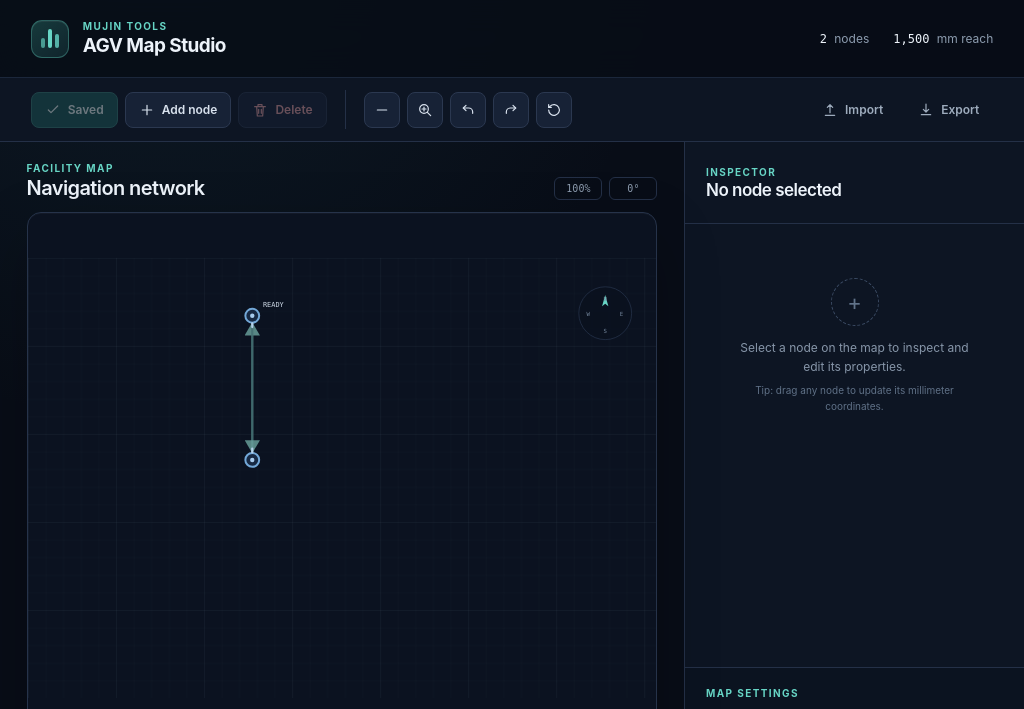
Test: App › can add and remove a node without leaving the draft dirty
The image size is (1024, 709).
expect the heading "Navigation network" is shown: met, box 27,176 -> 205,200
Click the button "Add node".
click(178, 110)  # box 125,92 -> 231,128
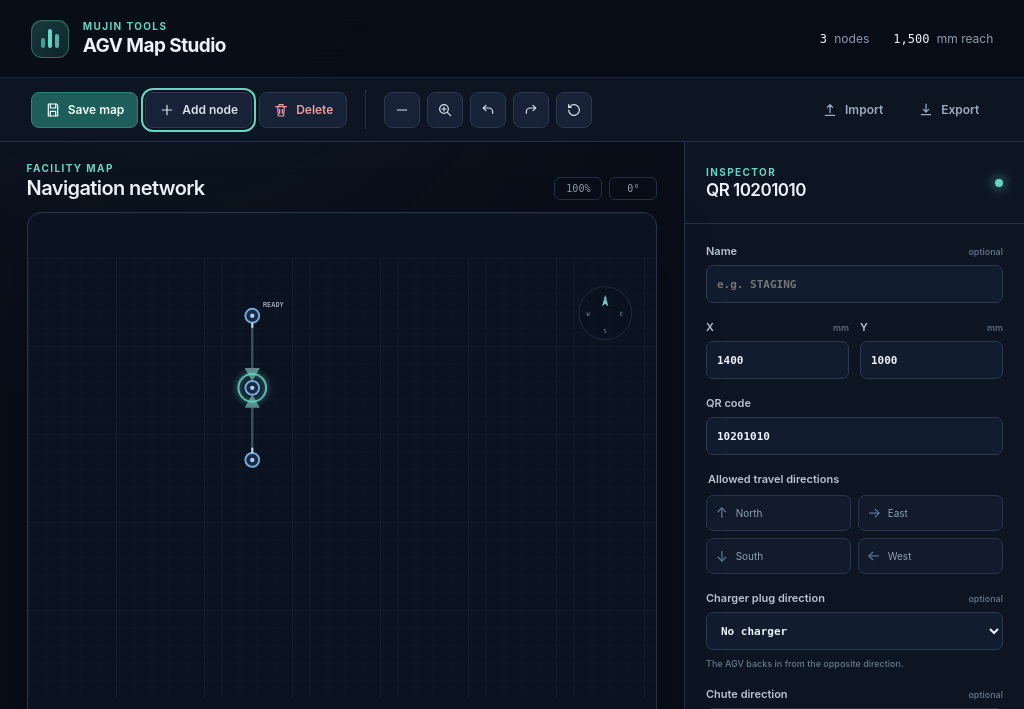
expect the element named "Map summary" shows "3 nodes": met, box 820,31 -> 993,46
Click the button "Delete".
click(303, 110)  # box 259,92 -> 347,128
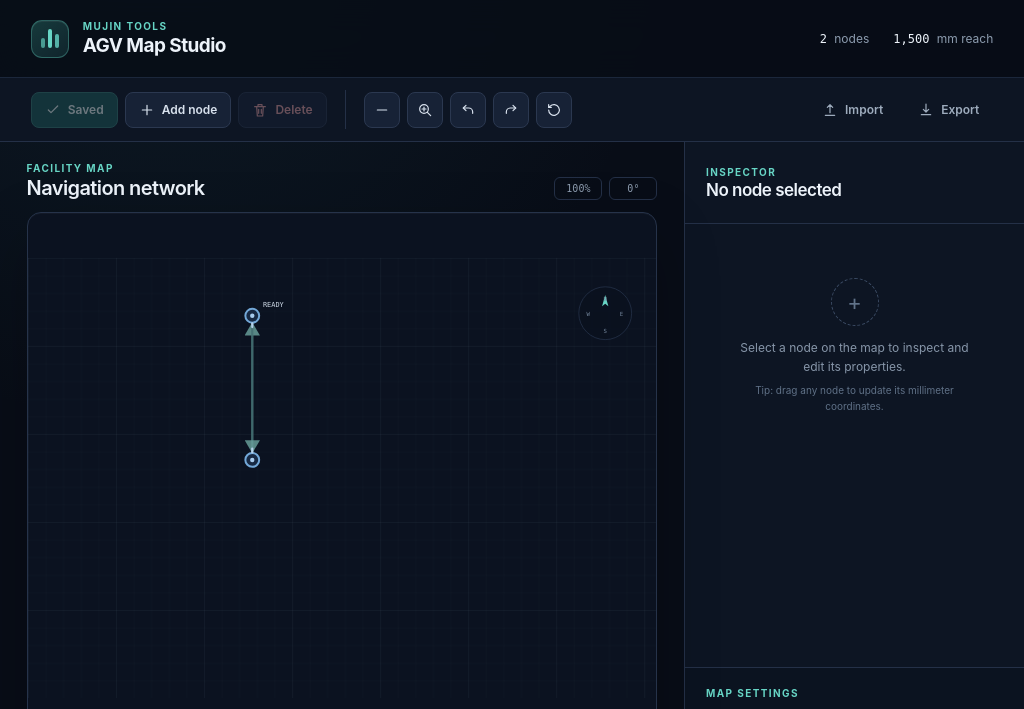
expect the element named "Map summary" shows "2 nodes": met, box 820,31 -> 993,46
expect the button "Saved" is disabled: met, box 31,92 -> 118,128
